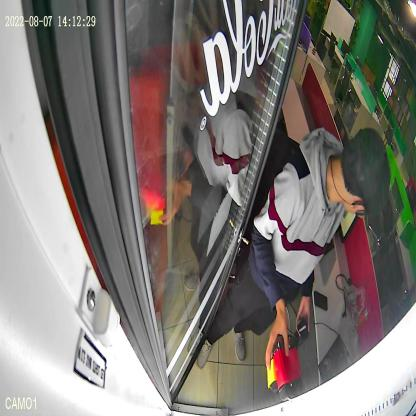red: (273, 335, 303, 397)
yellow: (266, 358, 280, 393)
